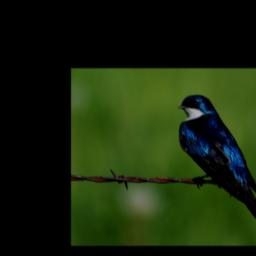Swallow: (176, 94, 256, 220)
